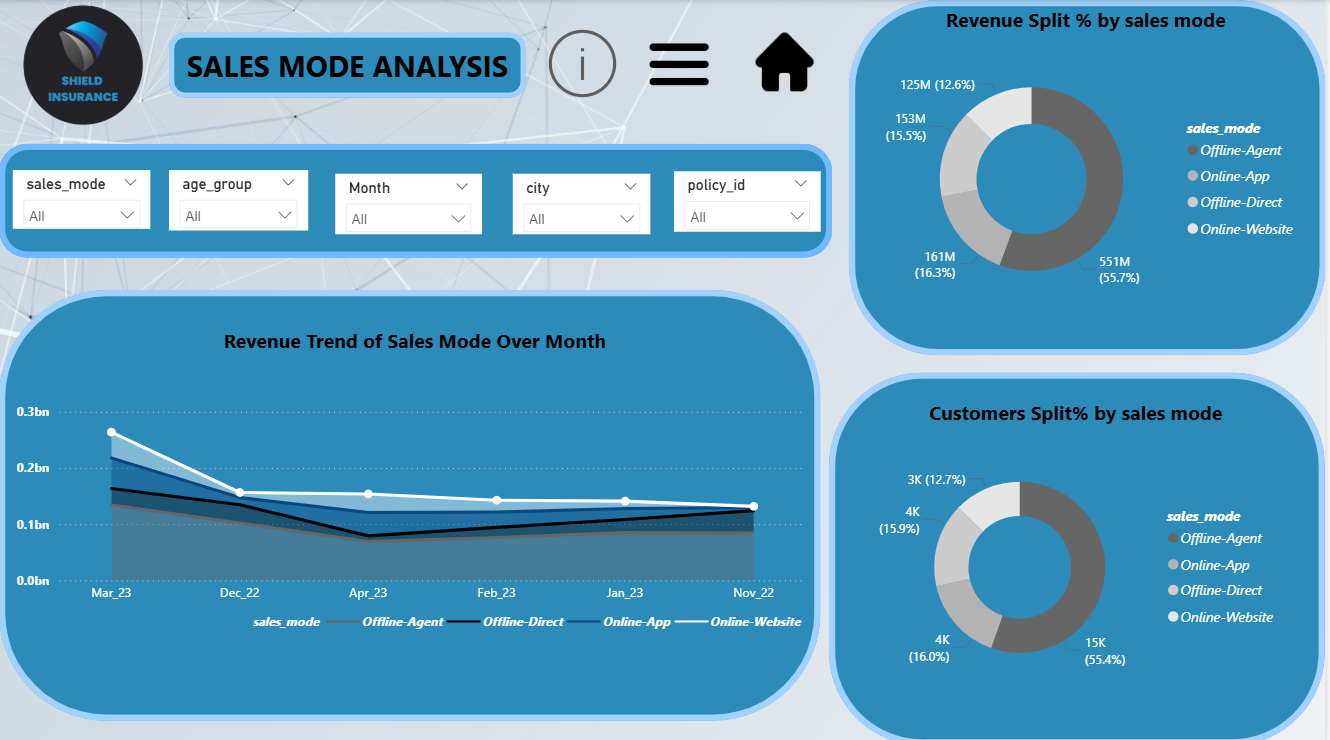

The dashboard page shown, as its layout file describes it:
{"tool":"powerbi","page":{"name":" New Sales Mode Analysis","canvas":[1280,720],"ordinal":2},"visuals":[{"type":"image","box":[0,0,162.9,125.7],"z":0},{"type":"shape","box":[820,0,460,342.9],"z":0,"group":"g2"},{"type":"shape","box":[0,138.6,804.3,110],"z":0,"group":"g1"},{"type":"shape","box":[0,280,792.9,415.7],"z":0,"group":"g4"},{"type":"shape","box":[801.4,360,478.6,360],"z":0,"group":"g3"},{"type":"shape","box":[164.3,31.4,344.3,62.9],"z":1000},{"type":"donutChart","fields":{"Category":["fact_premiums.sales_mode"],"Y":[" Measures.Total_premium_amount"]},"box":[841.4,38.4,421.3,269],"z":1000,"group":"g2"},{"type":"slicer","fields":{"Values":["fact_premiums.sales_mode"]},"box":[12.9,164.3,132.9,57.1],"z":1000,"group":"g1"},{"type":"stackedAreaChart","fields":{"Category":["dim_date.mmm_yy"],"Y":[" Measures.Total_premium_amount"],"Series":["fact_premiums.sales_mode"]},"box":[12.3,384.3,771.2,234.6],"z":1000,"group":"g4"},{"type":"donutChart","fields":{"Category":["fact_premiums.sales_mode"],"Y":[" Measures.Total_customers"]},"box":[838.5,424.3,405.7,248.6],"z":1000,"group":"g3"},{"type":"group","id":"g1","title":"Group 1","box":[0,138.6,804.3,110],"z":2000},{"type":"slicer","fields":{"Values":["dim_customer.age_group"]},"box":[164.3,164.3,134.3,58.6],"z":2000,"group":"g1"},{"type":"group","id":"g2","title":"Group 2","box":[820,0,460,342.9],"z":3000},{"type":"slicer","fields":{"Values":["dim_customer.dob.Variation.Date Hierarchy.Month"]},"box":[324.3,167.2,141.4,58.6],"z":3000,"group":"g1"},{"type":"slicer","fields":{"Values":["dim_customer.city"]},"box":[495.7,167.2,132.9,58.6],"z":4000,"group":"g1"},{"type":"group","id":"g3","title":"Group 3","box":[801.4,360,478.6,360],"z":4000},{"type":"slicer","fields":{"Values":["dim_policies.policy_id"]},"box":[651.4,165.7,141.4,58.6],"z":5000,"group":"g1"},{"type":"group","id":"g4","title":"Group 4","box":[0,280,792.9,415.7],"z":5000},{"type":"shape","box":[204.5,295,395.2,64.5],"z":6000},{"type":"shape","box":[898.8,0,300.5,37],"z":7000},{"type":"shape","box":[889.2,371.9,300.5,52.1],"z":8000},{"type":"actionButton","title":"Info Open Button","box":[522,20.8,106.8,81.6],"z":9000},{"type":"image","title":"Menu Open Button","box":[600.6,23.7,111.2,75.6],"z":10000},{"type":"image","box":[711.8,31.4,92.9,56.7],"z":14000}]}

Visuals, with their boxes in screenshot pixels (x1, y1, x2, y2), scaled from the page's 1280x720 canvas onto the 1330x740 screenshot:
image: 0:0:169:129
shape: 852:0:1329:352
shape: 0:142:836:256
shape: 0:288:824:715
shape: 833:370:1329:739
shape: 171:32:528:97
donutChart - fact_premiums.sales_mode x  Measures.Total_premium_amount: 874:39:1312:316
slicer - fact_premiums.sales_mode: 13:169:151:228
stackedAreaChart - dim_date.mmm_yy x  Measures.Total_premium_amount: 13:395:814:636
donutChart - fact_premiums.sales_mode x  Measures.Total_customers: 871:436:1293:692
"Group 1" group: 0:142:836:256
slicer - dim_customer.age_group: 171:169:310:229
"Group 2" group: 852:0:1329:352
slicer - dim_customer.dob.Variation.Date Hierarchy.Month: 337:172:484:232
slicer - dim_customer.city: 515:172:653:232
"Group 3" group: 833:370:1329:739
slicer - dim_policies.policy_id: 677:170:824:231
"Group 4" group: 0:288:824:715
shape: 212:303:623:369
shape: 934:0:1246:38
shape: 924:382:1236:436
"Info Open Button" actionButton: 542:21:653:105
"Menu Open Button" image: 624:24:740:102
image: 740:32:836:91
